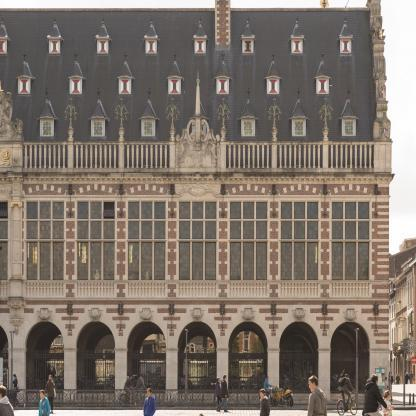Building Outline: (0, 0, 396, 402)
Cornice: (329, 184, 372, 195), (74, 184, 117, 195), (227, 184, 270, 195), (278, 184, 321, 195), (24, 184, 66, 195), (126, 184, 168, 195)
Deco: (0, 80, 24, 141), (175, 139, 220, 168), (7, 299, 26, 336), (215, 98, 231, 141), (318, 98, 334, 141), (114, 98, 129, 141), (165, 98, 180, 141), (267, 98, 282, 141), (64, 98, 78, 141), (373, 111, 392, 141), (175, 184, 221, 195), (377, 71, 387, 101), (342, 308, 358, 323), (374, 16, 383, 42), (241, 307, 256, 322), (37, 308, 53, 322), (88, 308, 104, 322), (291, 308, 307, 322), (139, 308, 154, 322), (190, 308, 205, 322)
Door: (330, 321, 370, 402), (24, 321, 64, 402), (75, 321, 115, 402), (126, 321, 166, 402), (177, 321, 217, 402), (228, 321, 268, 402), (279, 321, 319, 402)
Facade: (1, 11, 381, 403)
Floor: (1, 178, 390, 306)
Floor Slab: (1, 299, 390, 306), (1, 172, 390, 178)
Glass Wall: (221, 83, 224, 90), (272, 83, 275, 90), (23, 83, 26, 89), (53, 44, 56, 50), (321, 83, 324, 89), (75, 83, 78, 89), (124, 83, 127, 89), (173, 83, 176, 89), (344, 43, 347, 49), (150, 44, 153, 50), (102, 44, 105, 49), (199, 44, 202, 49), (0, 44, 3, 49), (296, 44, 298, 49)
Ground Floor: (1, 306, 390, 402)
Molding: (0, 177, 391, 184)
Pillar: (9, 194, 23, 297), (368, 349, 390, 402), (7, 348, 28, 402), (63, 348, 78, 402), (164, 348, 179, 402), (114, 348, 129, 402), (266, 348, 281, 402), (317, 348, 332, 402), (216, 348, 229, 402)
Roof: (0, 11, 379, 167)
Top Floor: (0, 11, 381, 178)
Window: (332, 202, 369, 280), (179, 202, 216, 280), (230, 202, 267, 280), (281, 202, 318, 280), (27, 202, 63, 280), (78, 202, 114, 280), (129, 202, 165, 280), (344, 121, 354, 136), (42, 121, 52, 136), (93, 121, 103, 136), (294, 121, 304, 136), (144, 121, 153, 136), (244, 121, 253, 136), (20, 80, 29, 93), (318, 80, 327, 93), (72, 80, 80, 93), (121, 80, 129, 93), (171, 80, 179, 93), (219, 80, 227, 93), (269, 80, 277, 93), (293, 41, 301, 53), (244, 41, 252, 53), (196, 41, 204, 53), (147, 41, 155, 53), (342, 40, 349, 52), (99, 41, 106, 53), (51, 41, 58, 53), (0, 41, 5, 53)
dont: (0, 389, 285, 409), (362, 364, 395, 416), (263, 376, 294, 407), (336, 374, 357, 415), (307, 375, 327, 416), (123, 374, 147, 406), (38, 375, 56, 416), (214, 374, 230, 412), (0, 385, 14, 416), (143, 388, 156, 416), (259, 388, 271, 416), (13, 374, 20, 403)
